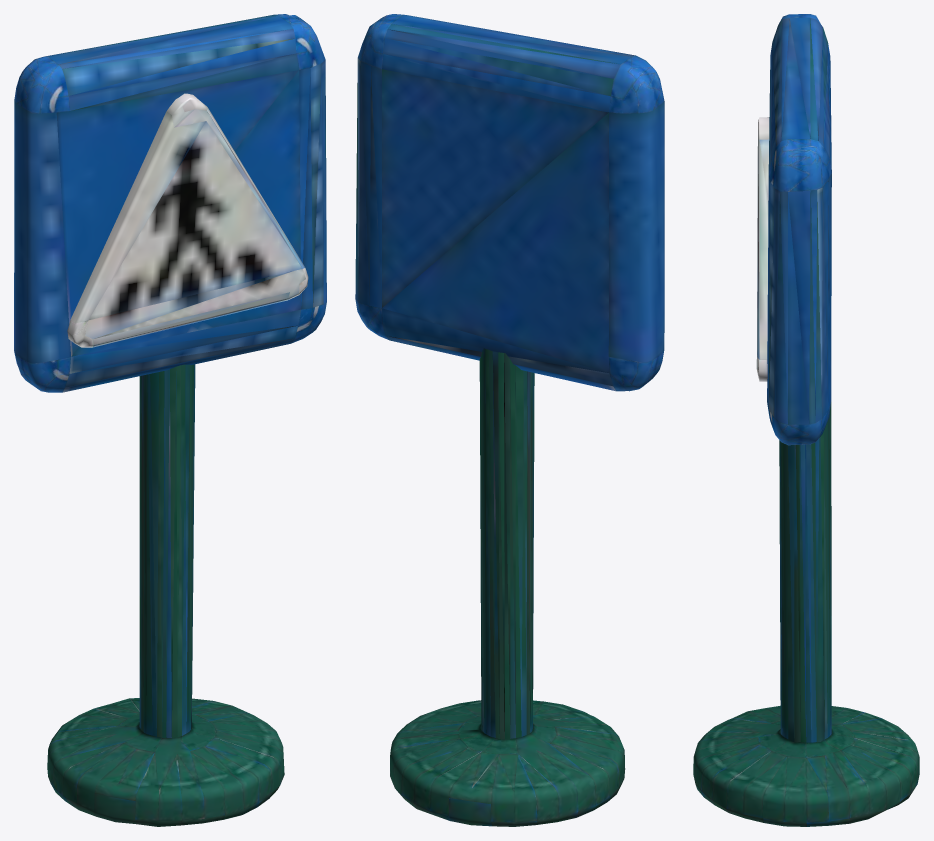
The model's file is crossing-sign.glb.
The picture shows the model from 3 angles, left to right: view 1: azimuth 30°, elevation 25°; view 2: azimuth 150°, elevation 25°; view 3: azimuth 270°, elevation 25°; orthographic projection. The views are drawn at different scales.
Parts seen in each view (by area): view 1: geometry_0; view 2: geometry_0; view 3: geometry_0.
Part boxes in pixels (bbox=[...]): geometry_0: bbox=[14, 14, 326, 826]; geometry_0: bbox=[355, 14, 664, 826]; geometry_0: bbox=[693, 14, 919, 826].
Size of the model in its own units: 0.417 by 0.9997 by 0.2887.
Materials: 1 (1 with a texture image).
